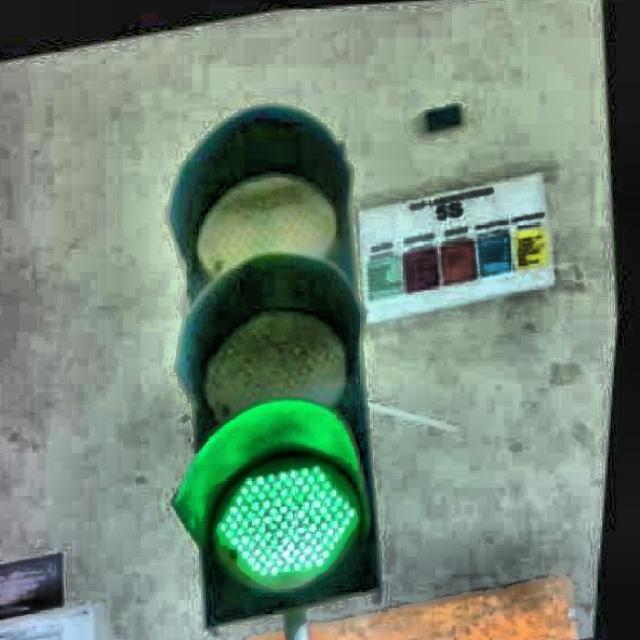green: (137, 79, 427, 628)
